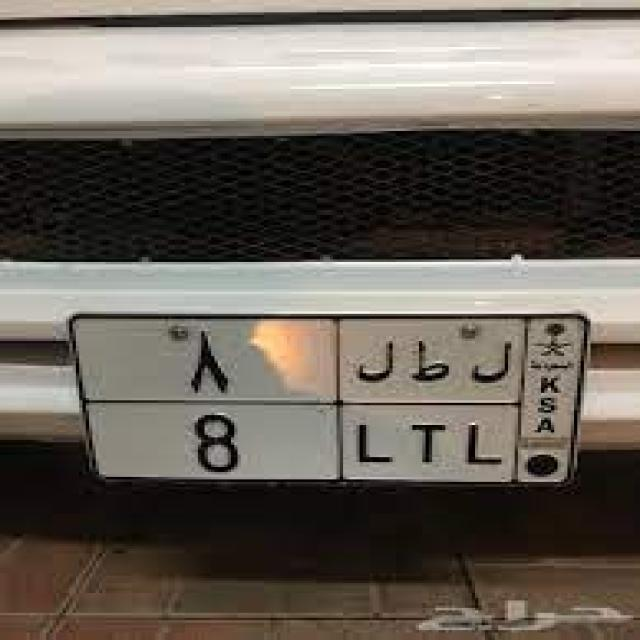license_plate: (66, 309, 594, 494)
